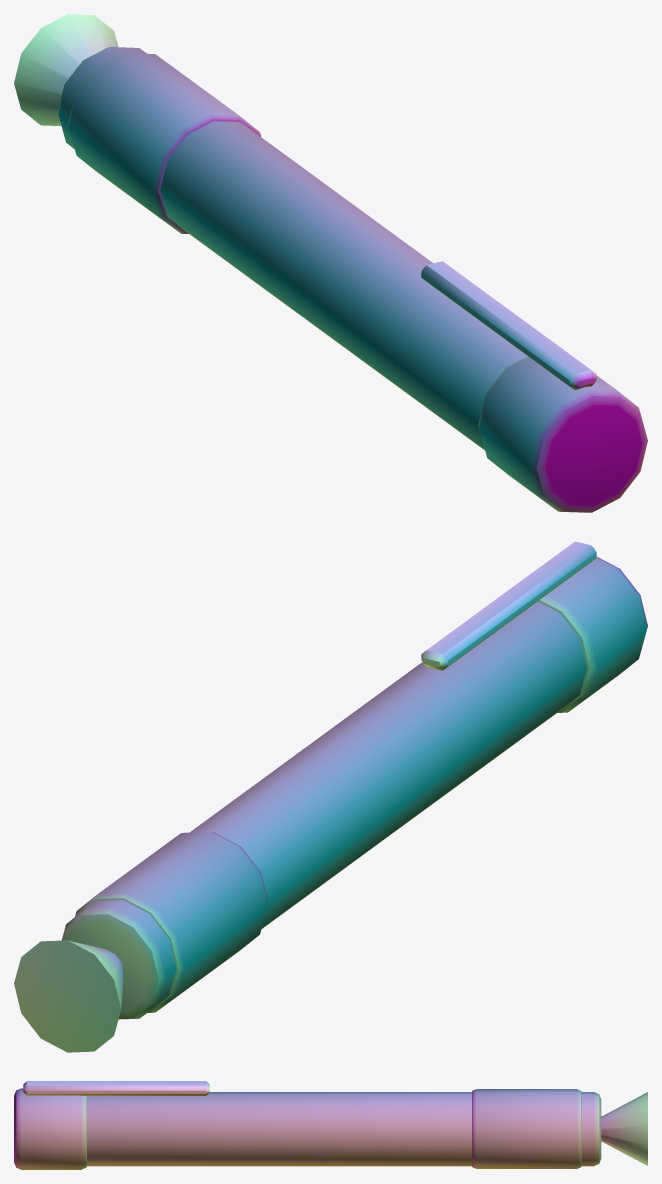
Rendered from env_deco_pen.glb.
3 views of the same model, one above another, from view 1: azimuth 30°, elevation 25°; view 2: azimuth 150°, elevation 25°; view 3: azimuth 270°, elevation 25° (orthographic). The views are drawn at different scales.
Visible parts, largest first — view 1: env_deco_pen_mesh; view 2: env_deco_pen_mesh; view 3: env_deco_pen_mesh.
Part boxes in pixels (x1,y1,x2,y2): env_deco_pen_mesh: (14, 14, 647, 512); env_deco_pen_mesh: (14, 541, 647, 1052); env_deco_pen_mesh: (14, 1081, 647, 1169).
Bounding box in the file's own units: 0.088 × 0.098 × 0.68.
